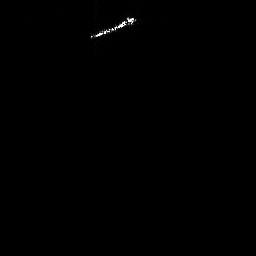ship: (89, 14, 137, 40)
